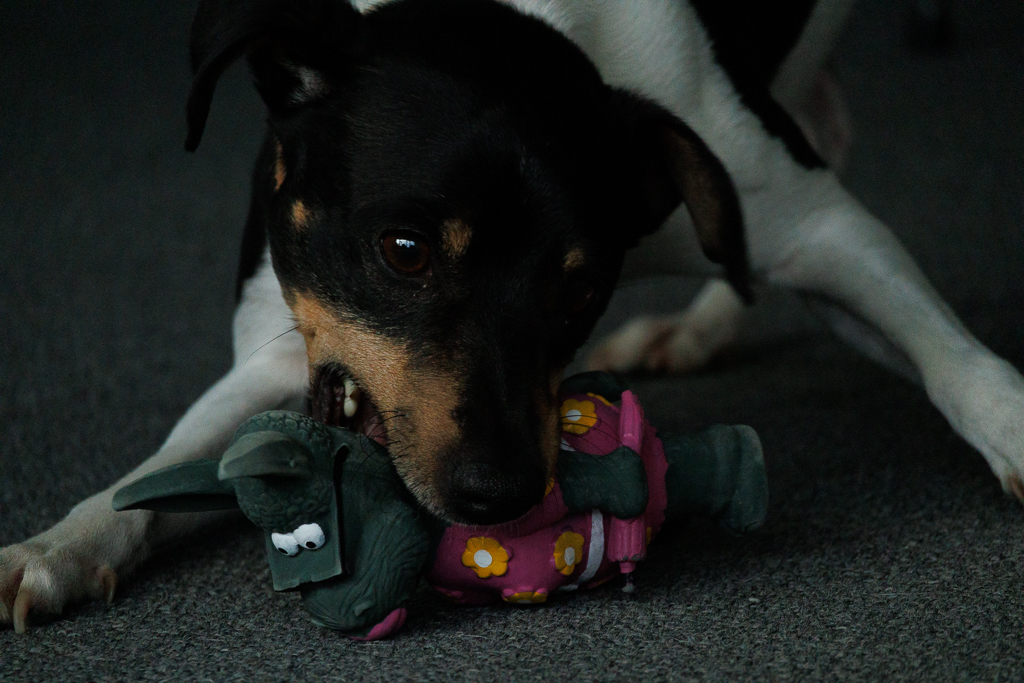Dog: (0, 0, 1024, 654)
Humanoid: (92, 354, 814, 648)
